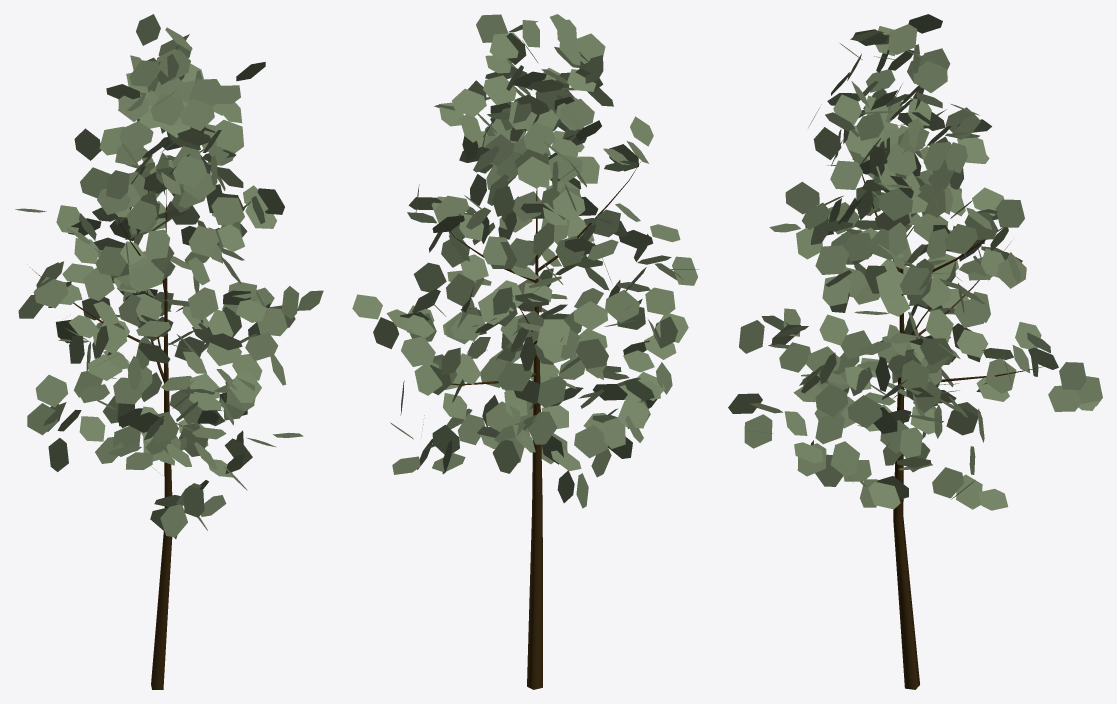
File: tree-leaves-001-lod1.glb
The picture shows the model from 3 angles, left to right: view 1: azimuth 30°, elevation 25°; view 2: azimuth 150°, elevation 25°; view 3: azimuth 270°, elevation 25°; orthographic projection.
Parts seen in each view (by area): view 1: v_leaves.001; view 2: v_leaves.001; view 3: v_leaves.001.
Boxes of the visible parts, x1,y1,x2,y2 form: v_leaves.001: (15, 14, 323, 689); v_leaves.001: (352, 14, 698, 689); v_leaves.001: (728, 14, 1102, 689).
Bounding box in the file's own units: 6.67 × 14.49 × 7.29.
